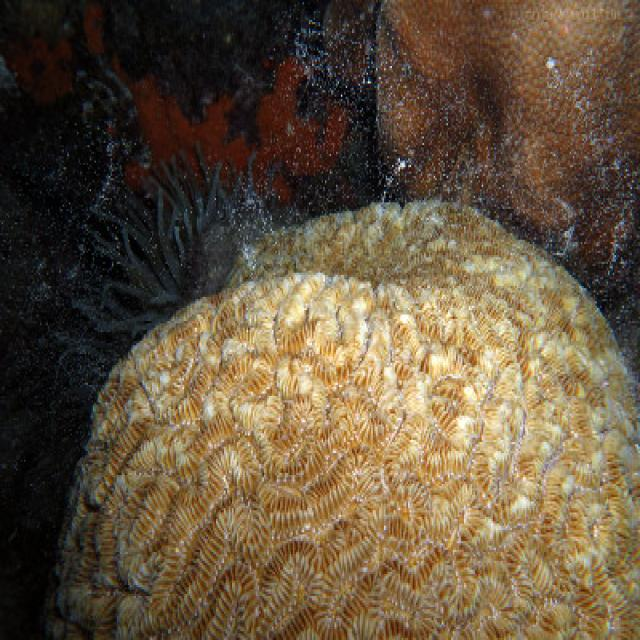Coral: (57, 203, 640, 640), (376, 0, 640, 310)
